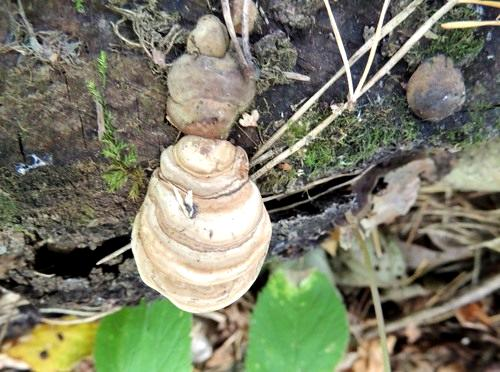Ganoderma - Fruit Body: (128, 134, 278, 311), (167, 10, 252, 131), (404, 51, 467, 121)
